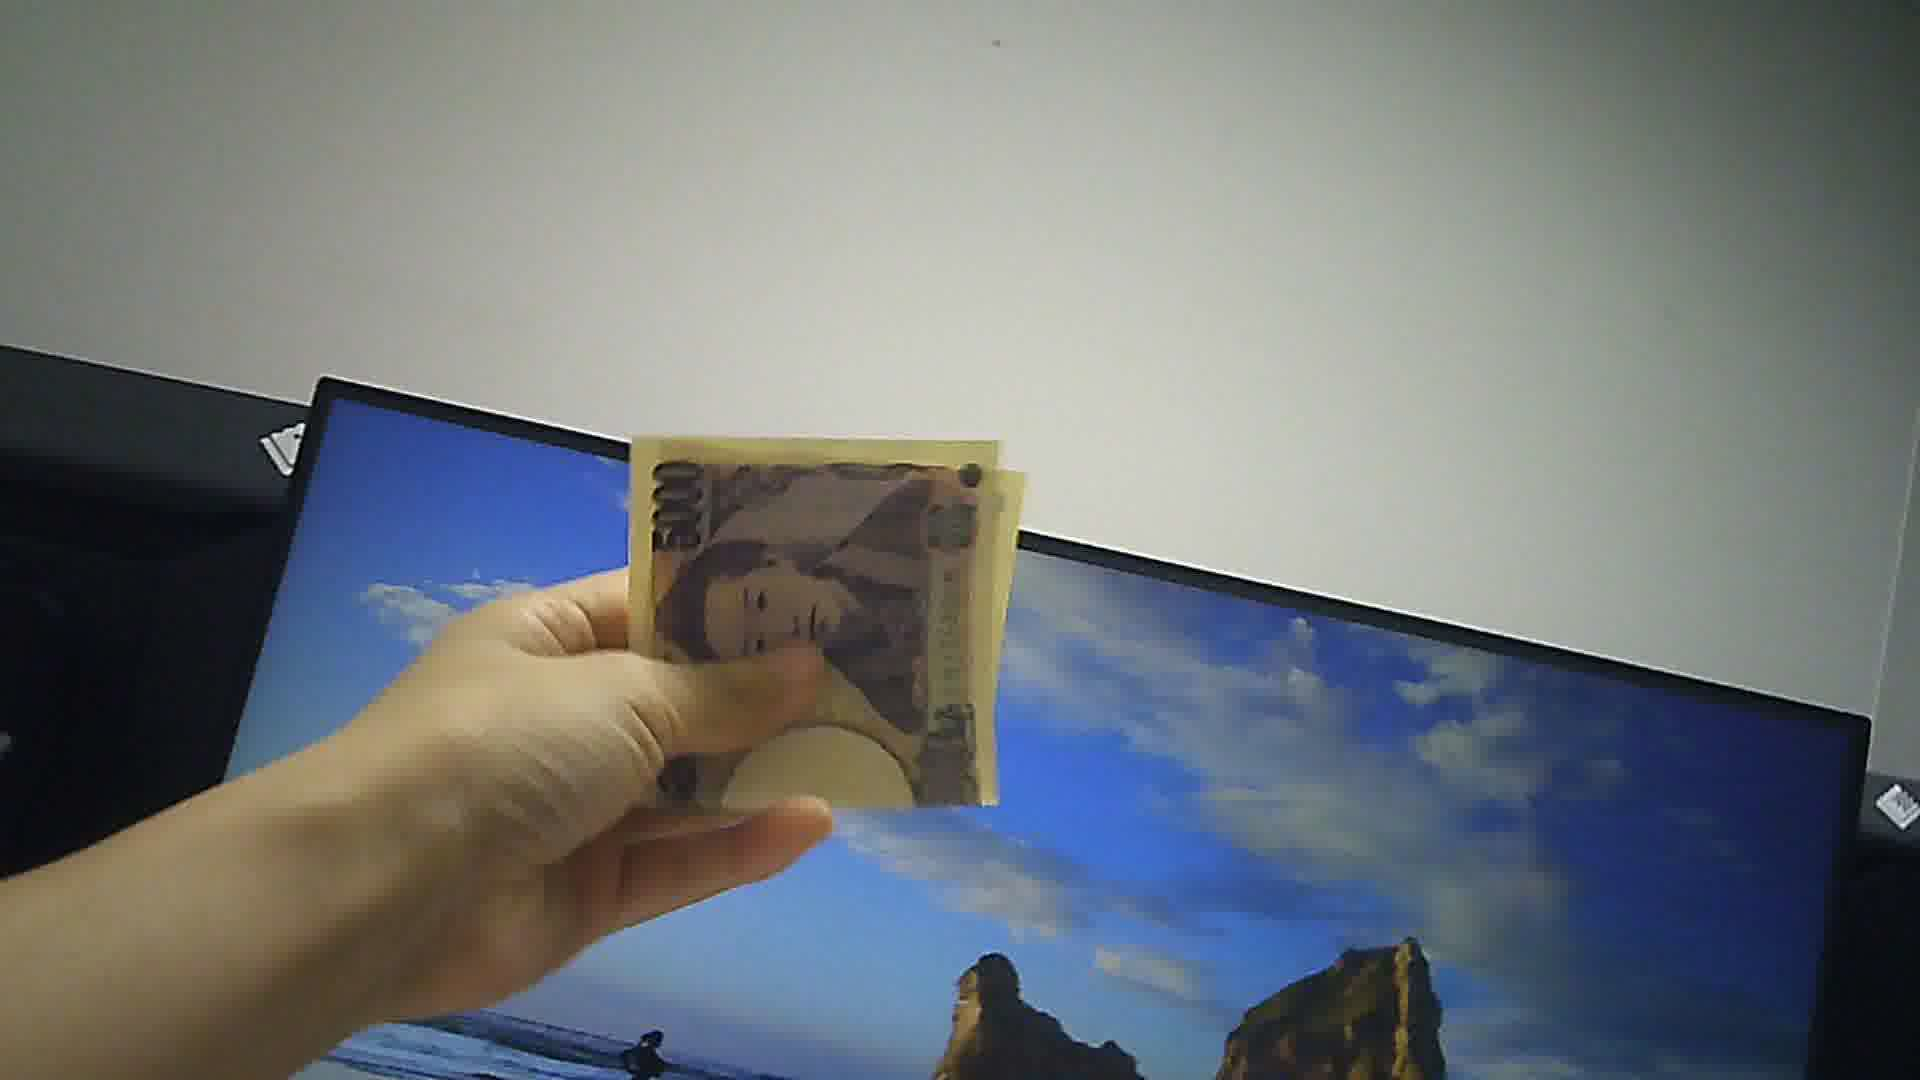5,000 Yen: (601, 417, 1062, 815)
